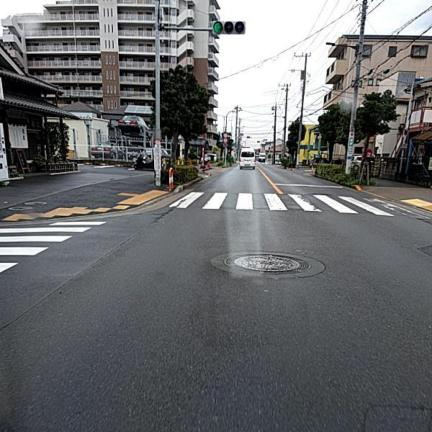Road: (0, 165, 431, 431)
